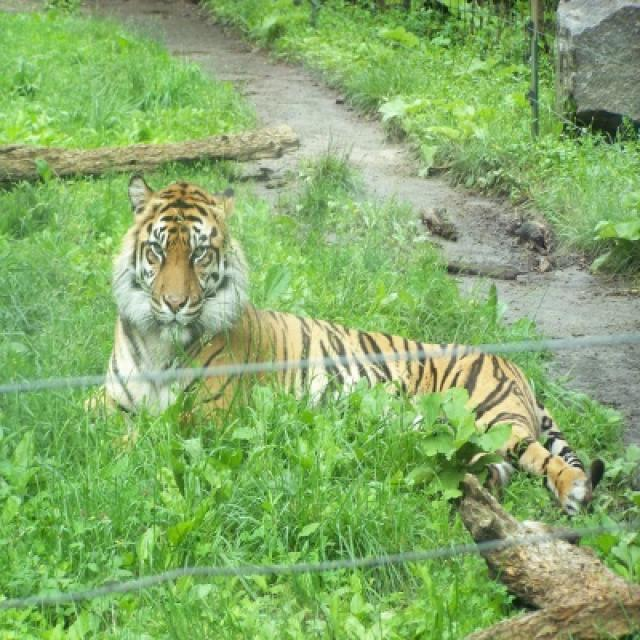Tiger: (110, 170, 601, 521)
